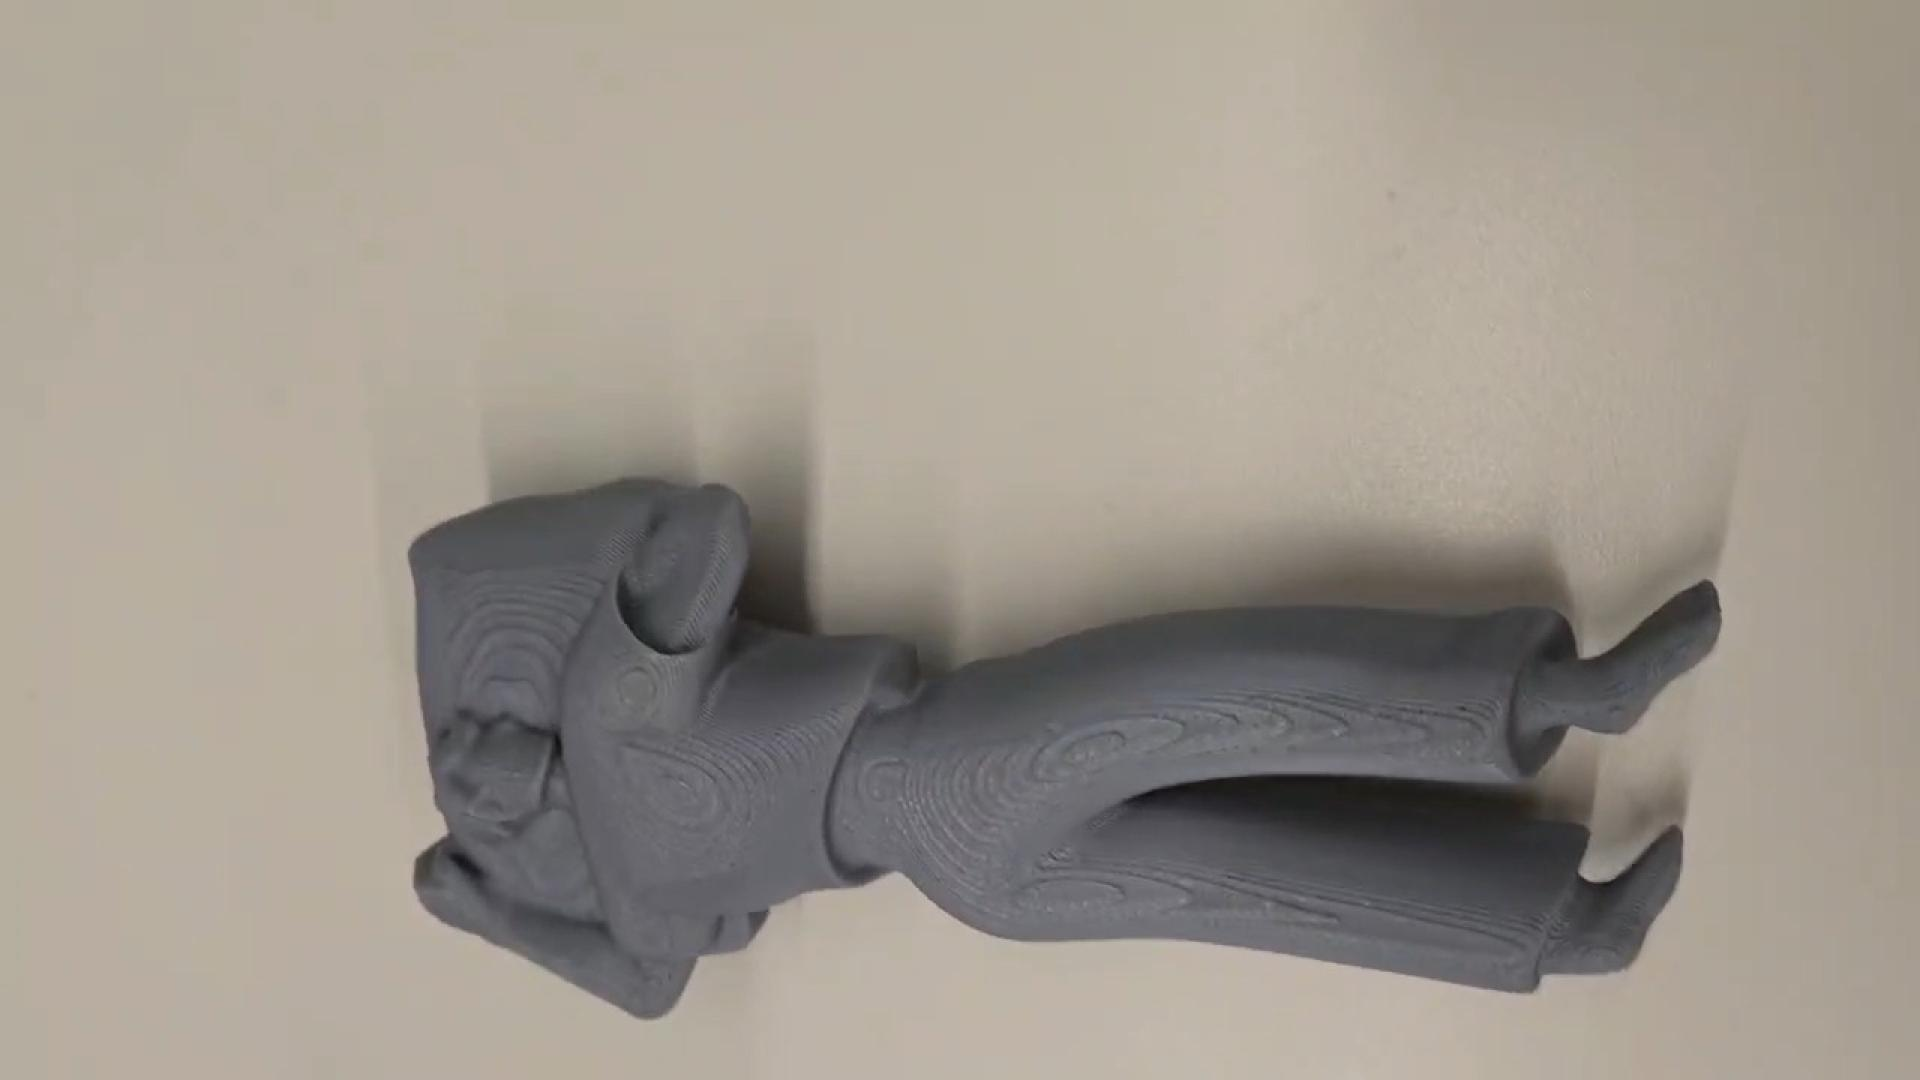Bad-style: (393, 465, 1734, 1027)
